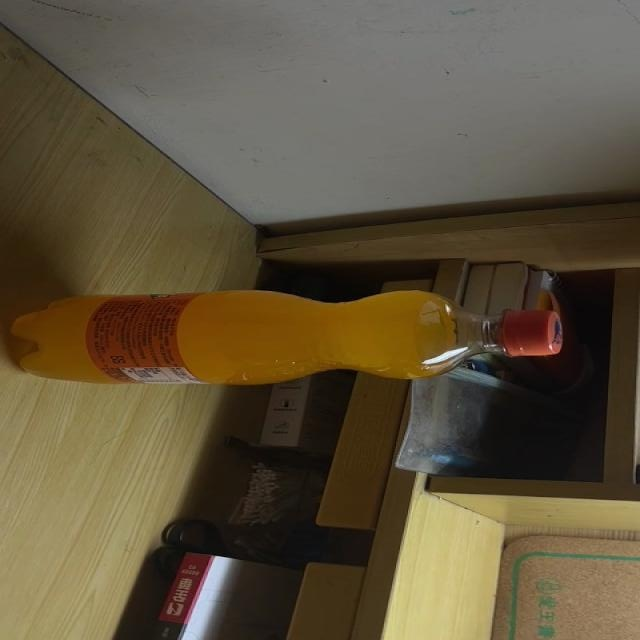Fanta: (5, 289, 564, 384)
